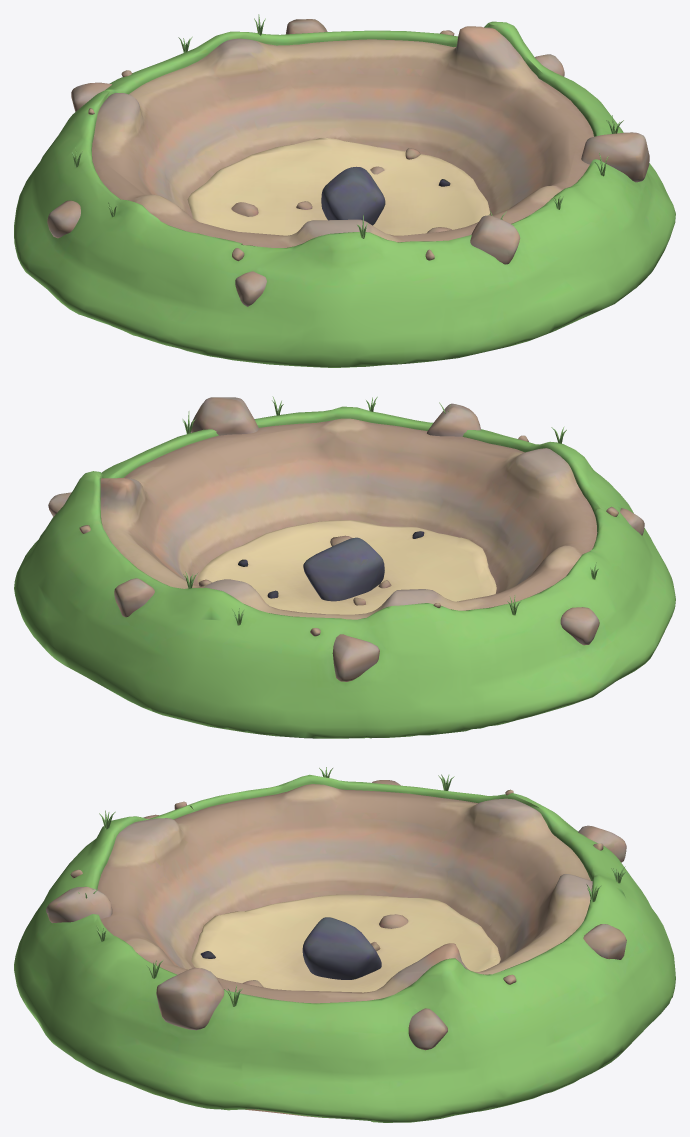
File: prop_crater.glb
3 views of the same model, one above another, from view 1: azimuth 30°, elevation 25°; view 2: azimuth 150°, elevation 25°; view 3: azimuth 270°, elevation 25° (orthographic). The views are drawn at different scales.
Visible parts, largest first — view 1: crater_body; view 2: crater_body; view 3: crater_body.
Boxes of the visible parts, left/top/right/bottom form: crater_body: left=14, top=14, right=675, bottom=367; crater_body: left=14, top=396, right=675, bottom=738; crater_body: left=14, top=767, right=675, bottom=1122.
Size of the model in its own units: 8.2 by 1.63 by 7.94.
1 material, 1 textured.
